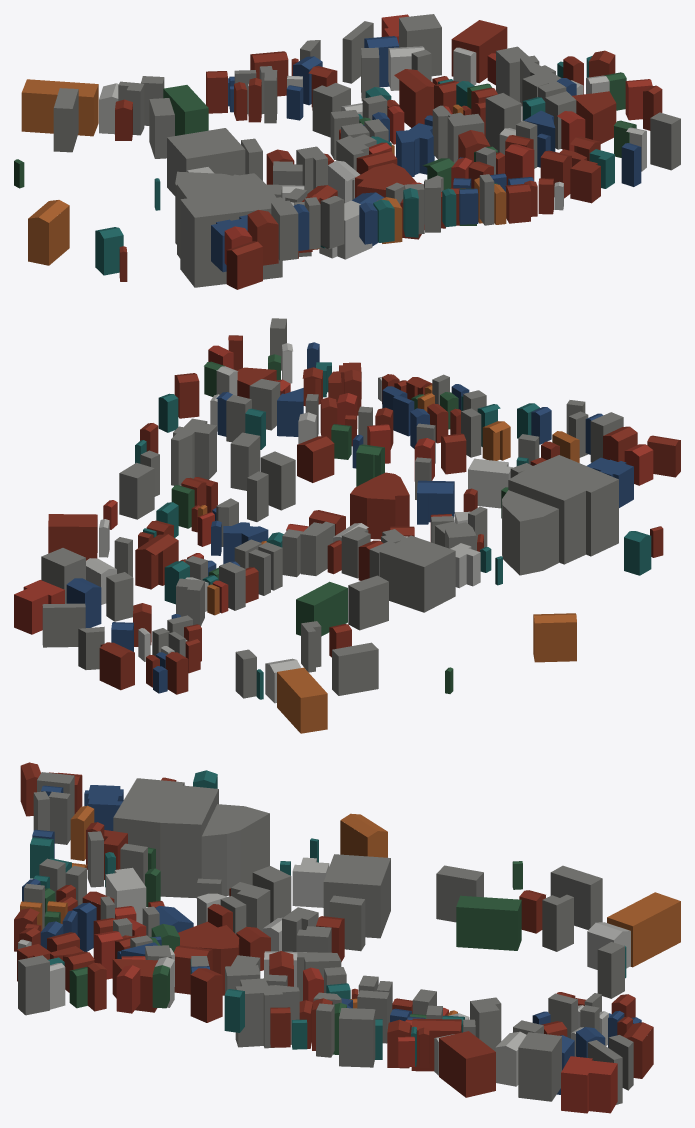
Rendered from near-17-109441-59474.c90e747c.glb.
3 renders of one model, top to bottom at view 1: azimuth 30°, elevation 25°; view 2: azimuth 150°, elevation 25°; view 3: azimuth 270°, elevation 25°, orthographic. The views are drawn at different scales.
Size of the model in its own units: 303 by 87.69 by 312.
